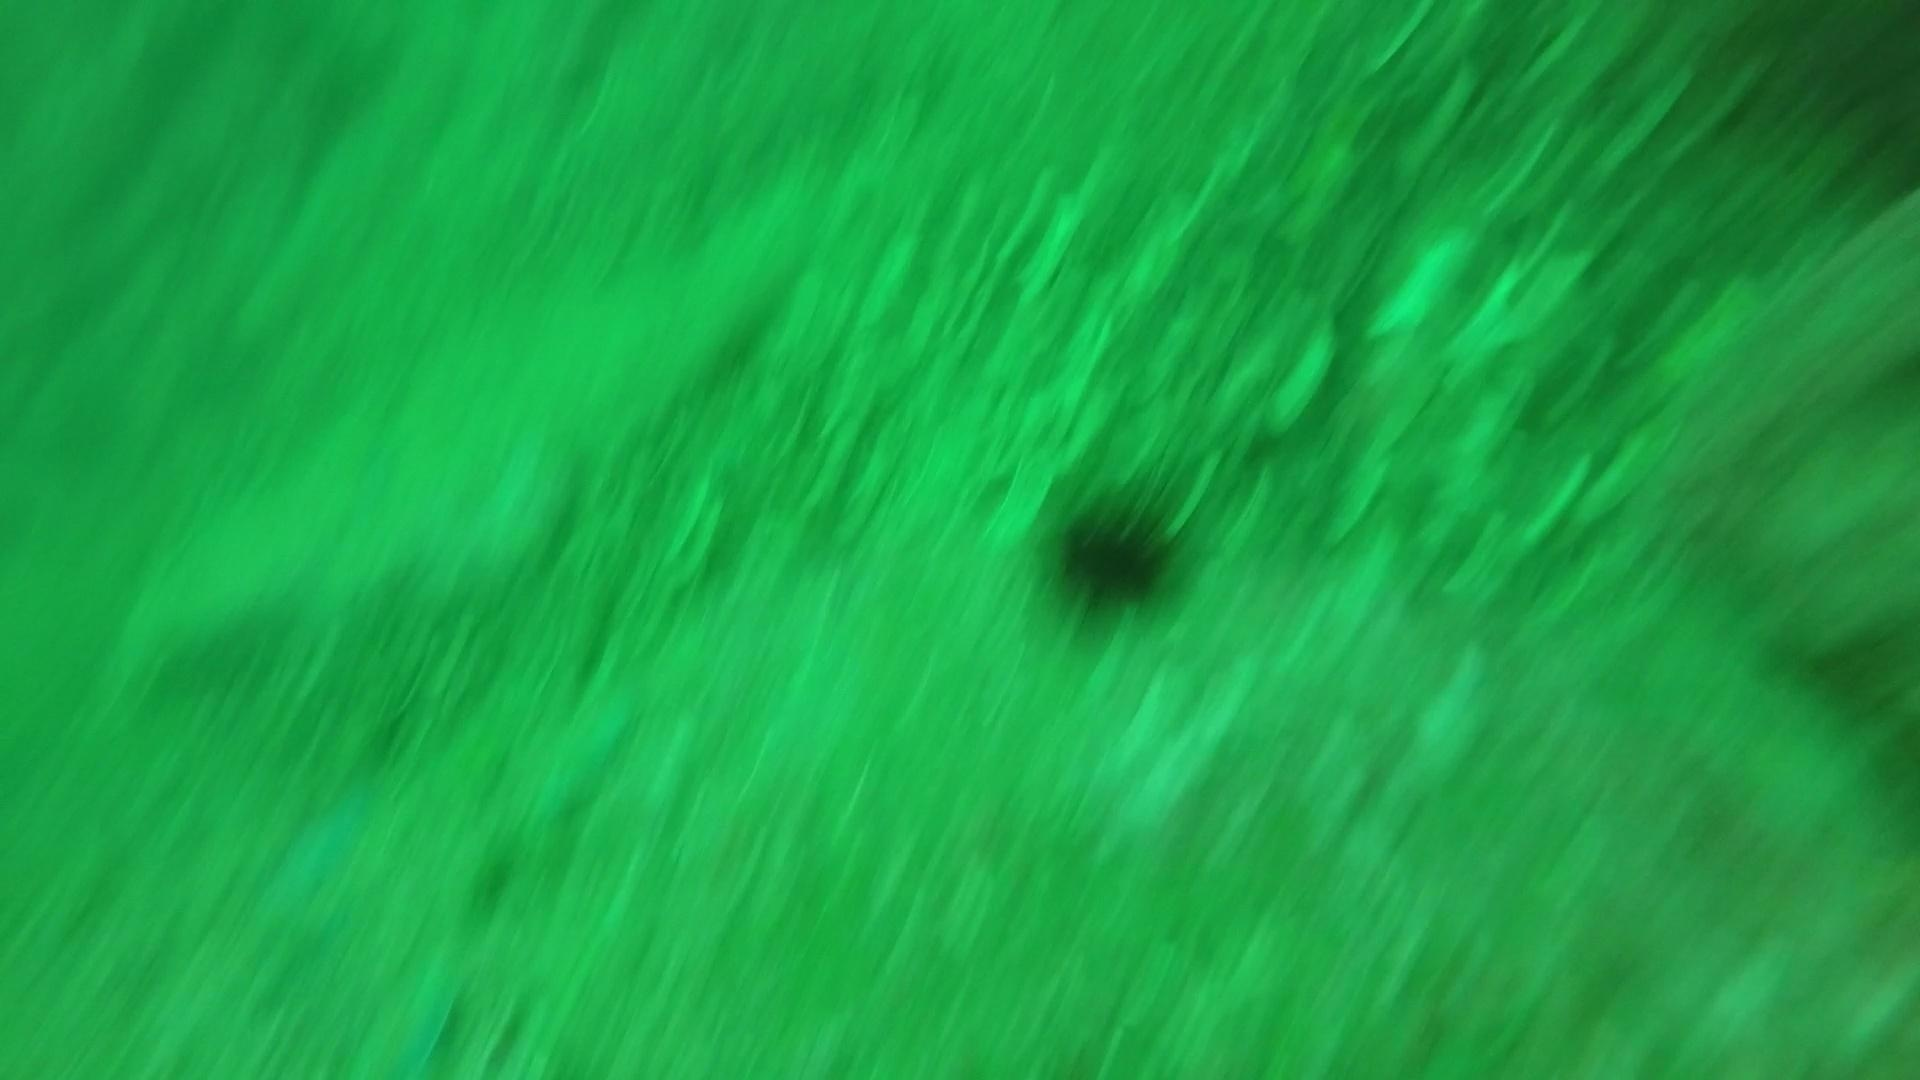echinus: (1040, 491, 1187, 617)
starfish: (509, 671, 646, 829), (338, 959, 472, 1080)
